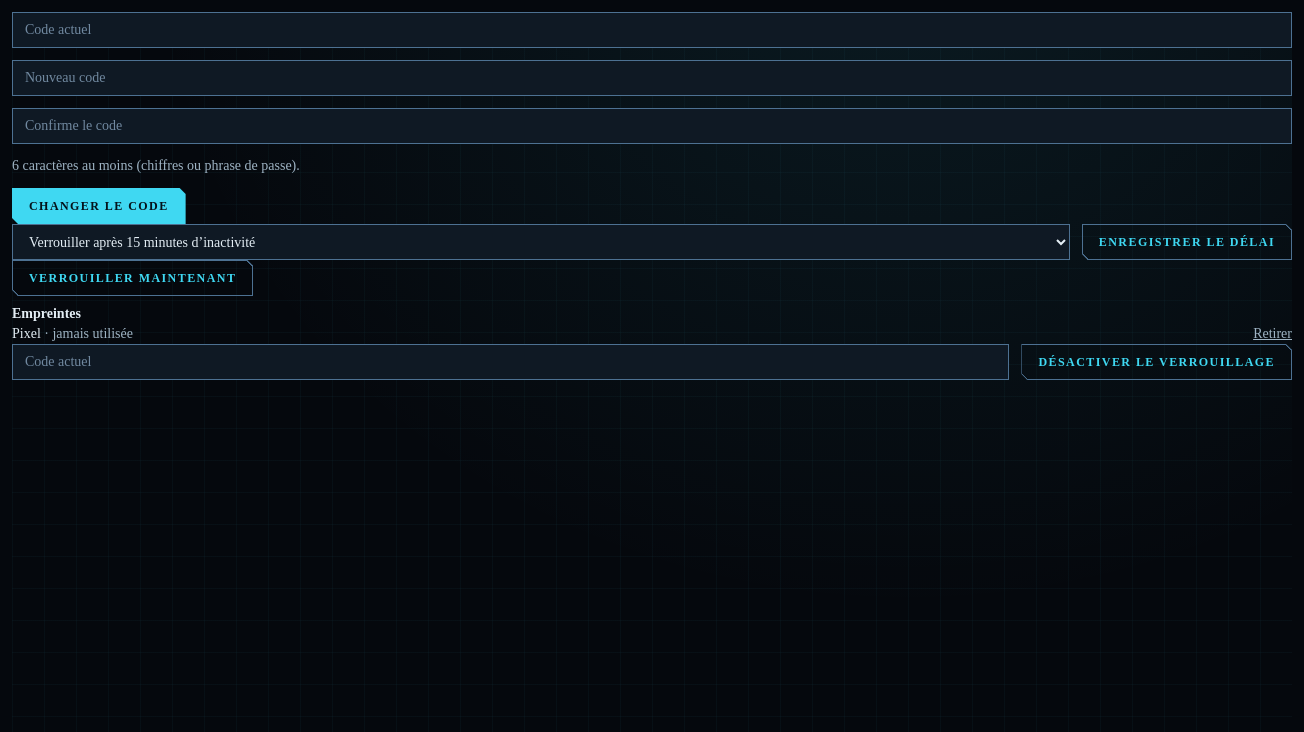
LockForms : actions › délai puis désactivation : seul le message du dernier formulaire envoyé reste
Click the button "Enregistrer le délai": point(1187, 242) [1082,224,1292,260]
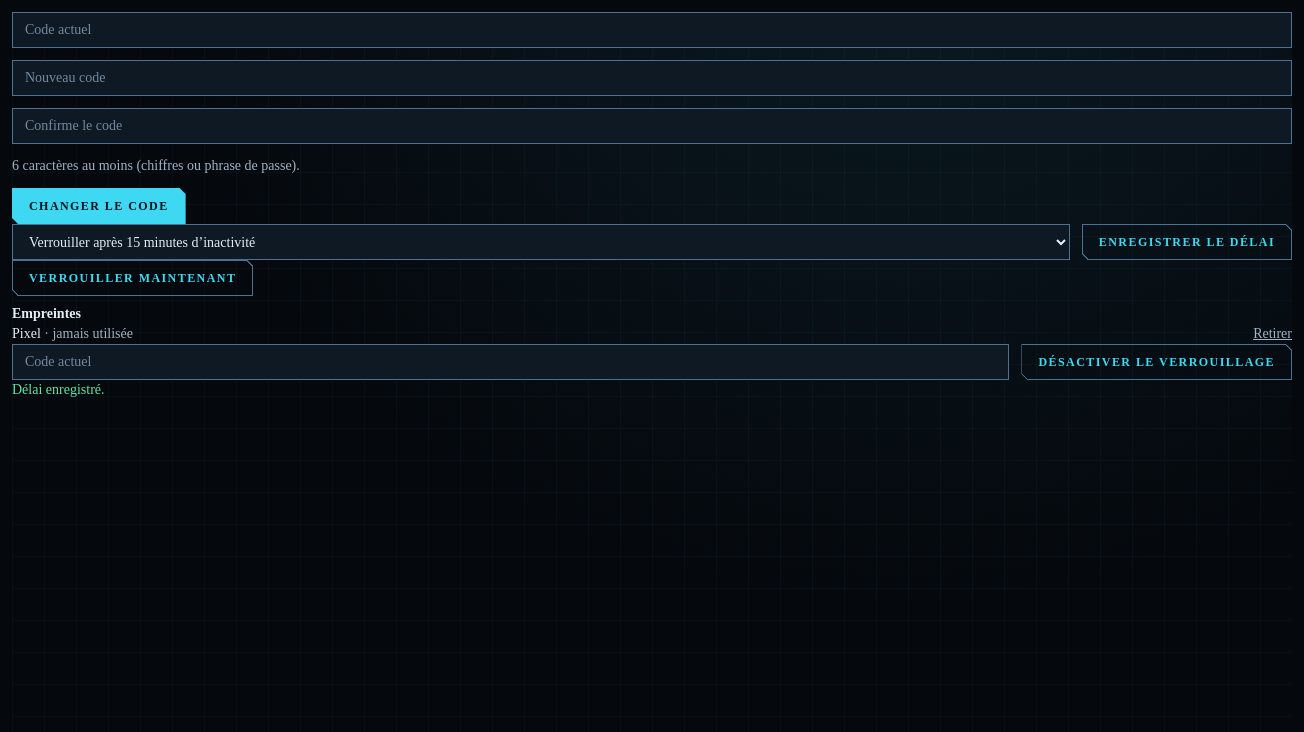
Now the text "Délai enregistré." is shown, box [12,382,104,397]
In the password field named "Code actuel pour désactiver": point(511, 362) [12,344,1009,380], type "ok"
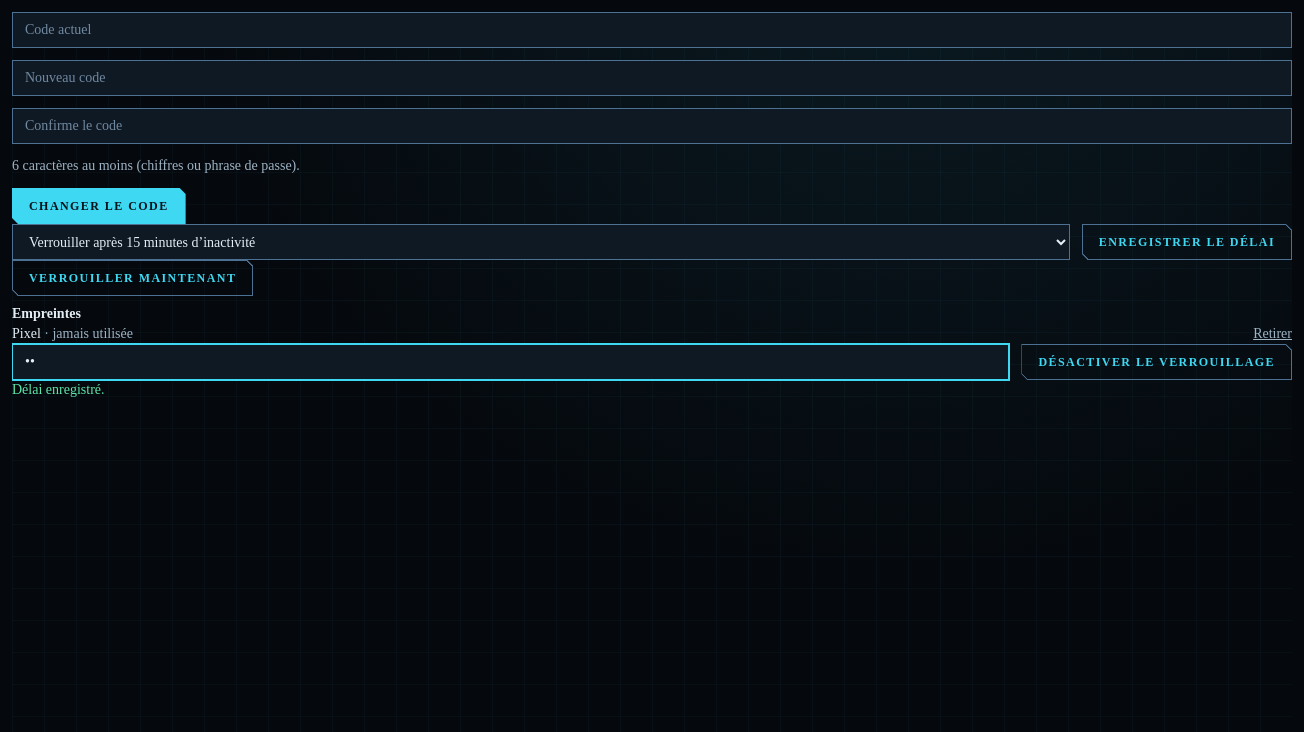
Click the button "Désactiver le verrouillage": point(1157, 362) [1021,344,1292,380]
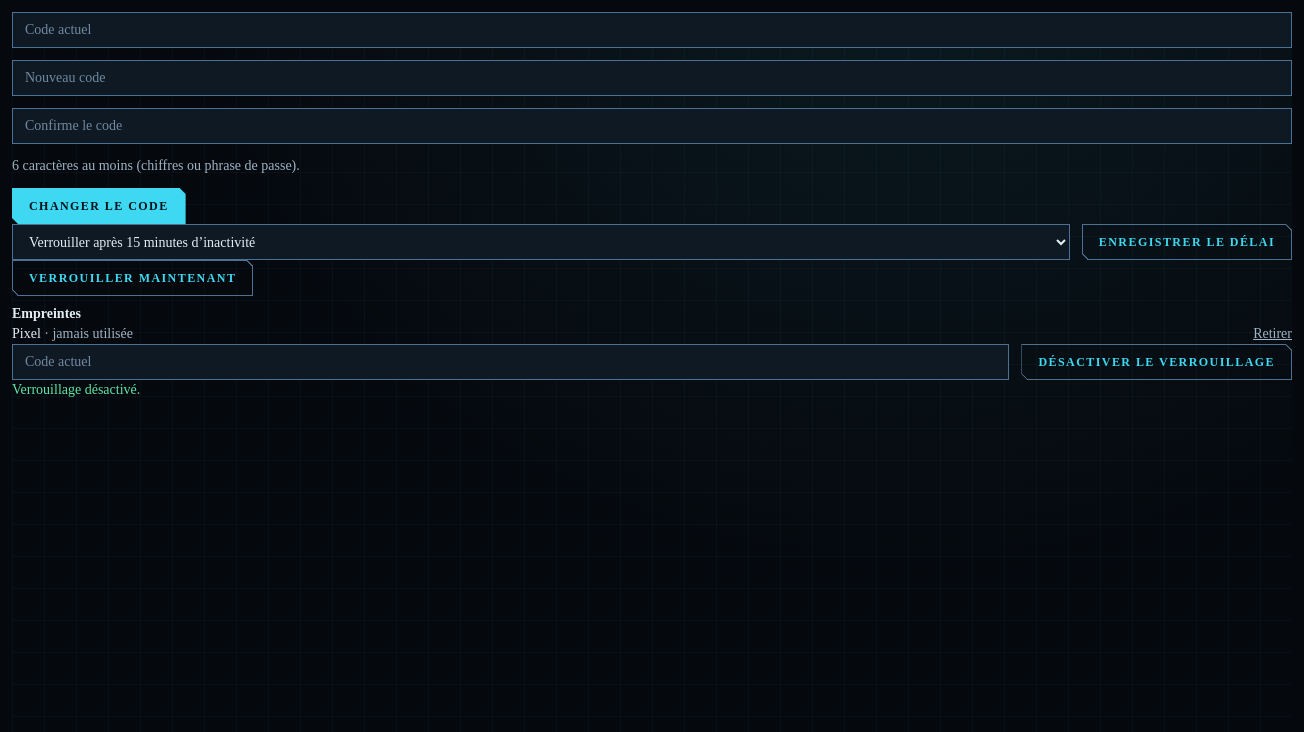
Now the number of messages is 1, box [12,382,140,397]
Now the text "Délai enregistré." is gone
